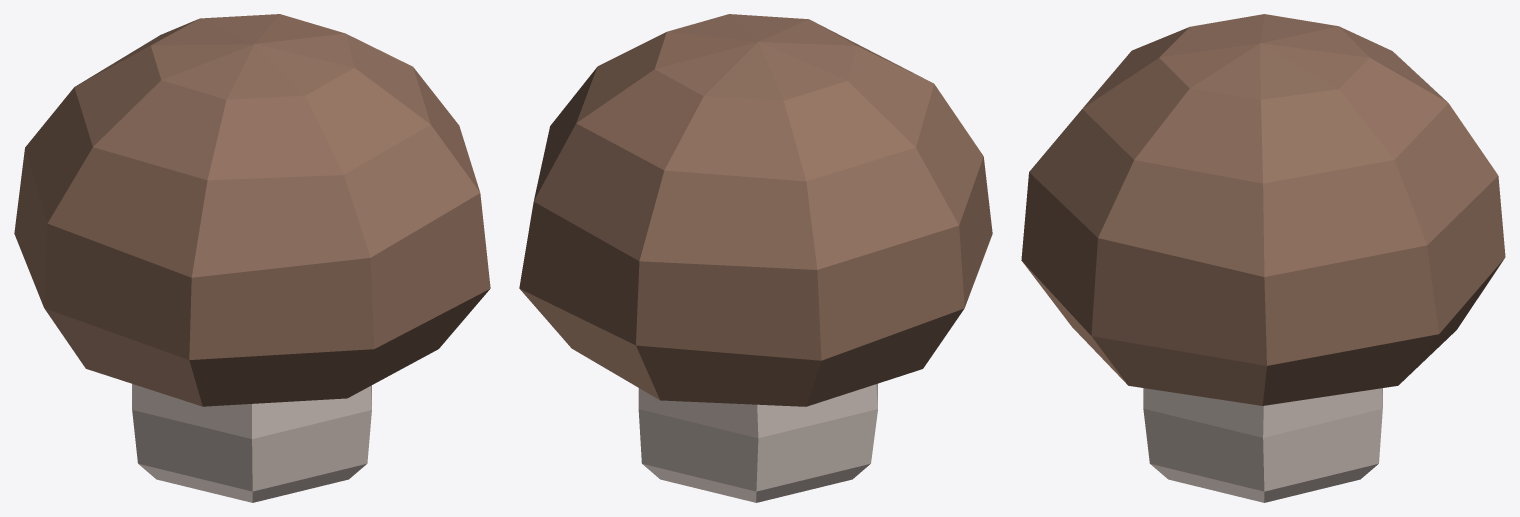
File: BrownMushroom.fbx
3 views of the same model, side by side, from view 1: azimuth 30°, elevation 25°; view 2: azimuth 150°, elevation 25°; view 3: azimuth 270°, elevation 25° (orthographic).
Parts seen in each view (by area): view 1: BrownMushroom; view 2: BrownMushroom; view 3: BrownMushroom.
Boxes of the visible parts, x1,y1,x2,y2 form: BrownMushroom: [14, 14, 490, 502]; BrownMushroom: [519, 14, 992, 502]; BrownMushroom: [1021, 14, 1505, 502].
Bounding box in the file's own units: 0.4106 × 0.3946 × 0.4085.
